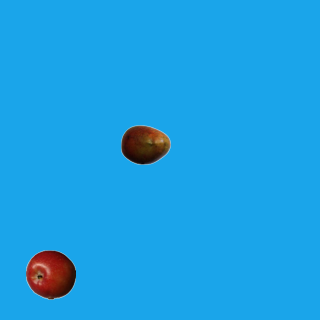Apple Braeburn: (25, 249, 75, 299)
Mango Red: (120, 119, 170, 169)
